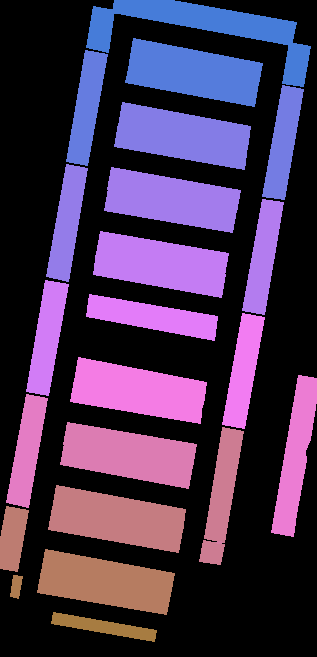parkingspot: (112, 0, 296, 45), (271, 375, 317, 536), (52, 485, 185, 532), (125, 59, 258, 106), (74, 357, 206, 404), (114, 123, 247, 169), (129, 38, 262, 84), (93, 251, 225, 297), (118, 102, 250, 148), (48, 507, 182, 552), (86, 294, 217, 340), (41, 549, 174, 594), (63, 422, 196, 467), (107, 167, 240, 212), (60, 443, 192, 488), (37, 570, 170, 614), (70, 379, 202, 423), (96, 231, 228, 275), (104, 188, 236, 232), (26, 280, 68, 395), (222, 313, 264, 428), (46, 164, 87, 281), (66, 50, 107, 165), (242, 199, 283, 314), (262, 85, 303, 199), (6, 394, 47, 507), (204, 427, 243, 542), (51, 612, 156, 641), (0, 506, 28, 571), (86, 6, 114, 52), (282, 42, 310, 86), (199, 540, 224, 564), (10, 575, 22, 598)
